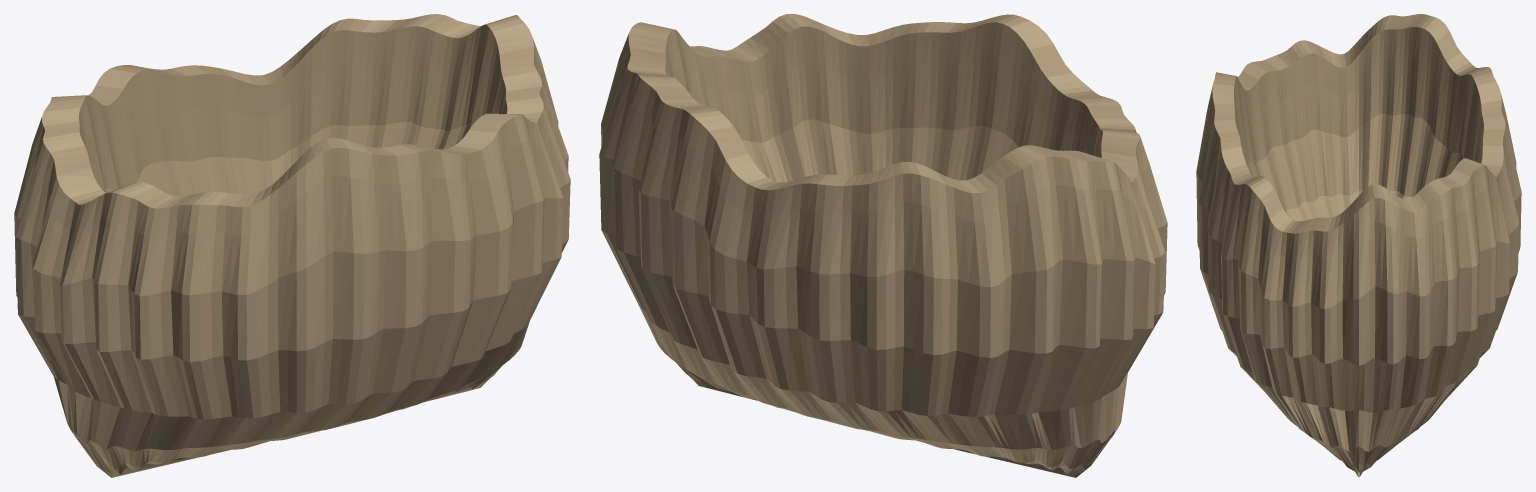
3 views of the same model, side by side, from view 1: azimuth 30°, elevation 25°; view 2: azimuth 150°, elevation 25°; view 3: azimuth 270°, elevation 25° (orthographic). The views are drawn at different scales.
Parts seen in each view (by area): view 1: incomplete_elliptical_ernietta_basal_fossil_sack_integral_pa; view 2: incomplete_elliptical_ernietta_basal_fossil_sack_integral_pa; view 3: incomplete_elliptical_ernietta_basal_fossil_sack_integral_pa.
Boxes of the visible parts, x1=… form: incomplete_elliptical_ernietta_basal_fossil_sack_integral_pa: x1=14, y1=14, x2=570, y2=477; incomplete_elliptical_ernietta_basal_fossil_sack_integral_pa: x1=599, y1=14, x2=1167, y2=477; incomplete_elliptical_ernietta_basal_fossil_sack_integral_pa: x1=1196, y1=14, x2=1521, y2=477.
Bounding box in the file's own units: 0.0848 × 0.0554 × 0.0531.
